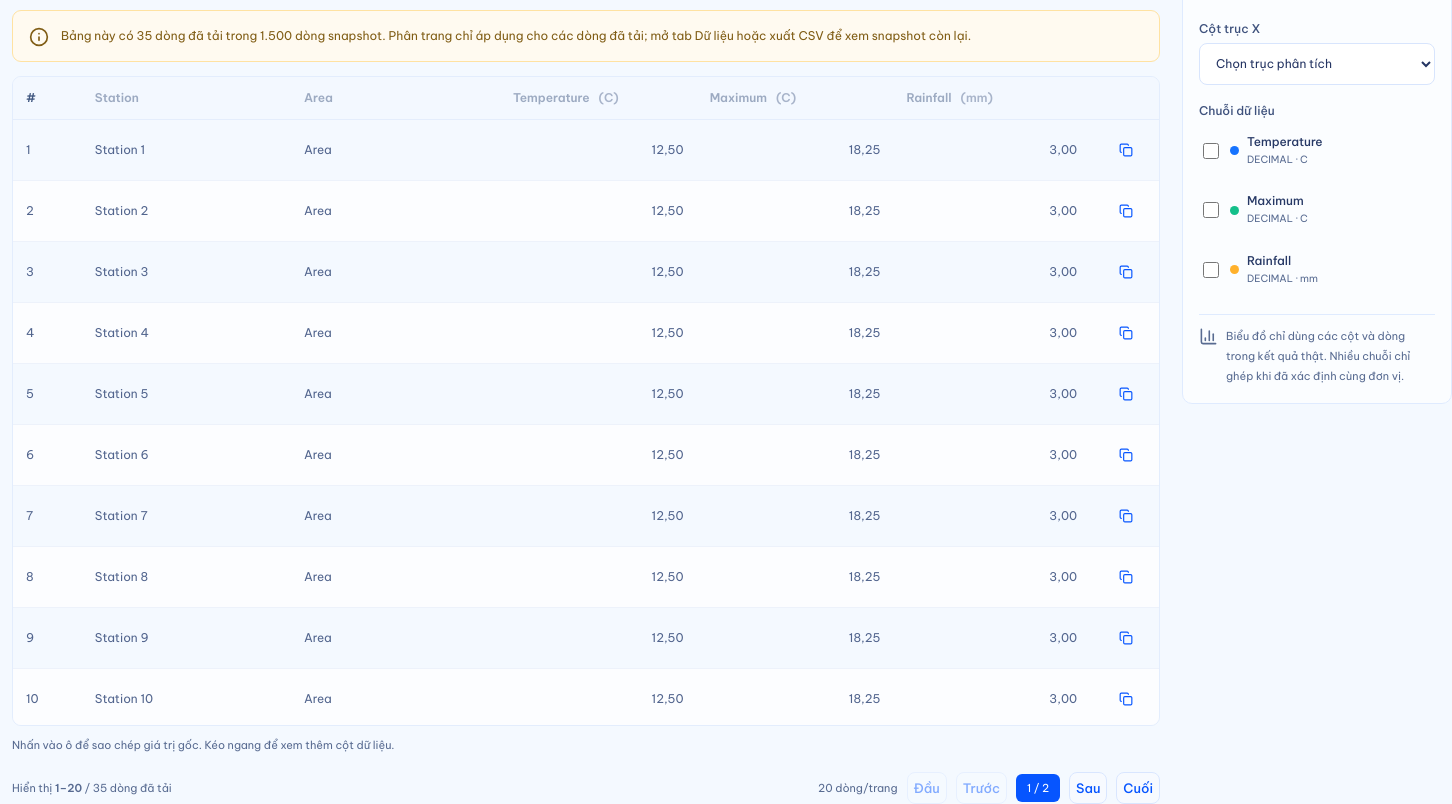
it: result shape and chart controls › pages only available snapshot rows and identifies an unloaded remainder
(page scrolled)
Expected: the text "Bảng này có 35 dòng đã tải trong 1.500 dòng snapshot" is shown, [61,28,971,43]
Click the button with aria-label "Trang cuối".
click(1138, 788)  # box [1116,772,1160,803]
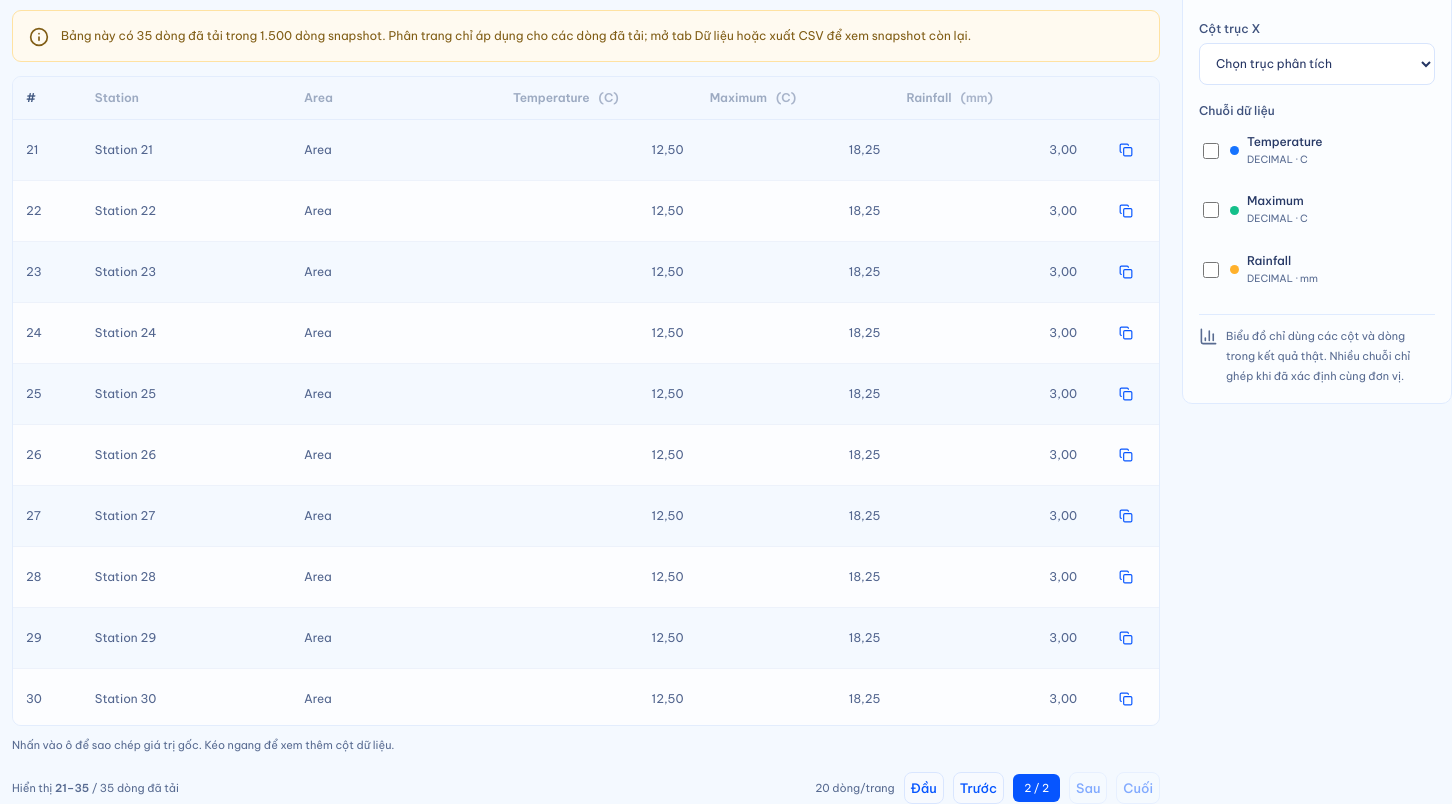
Now the cell "21" is shown, box [13,120,82,181]
Now the button with aria-label "Trang sau" is disabled, box [1069,772,1107,803]
Now the text "2 / 2" is shown, box [1013,774,1060,802]
